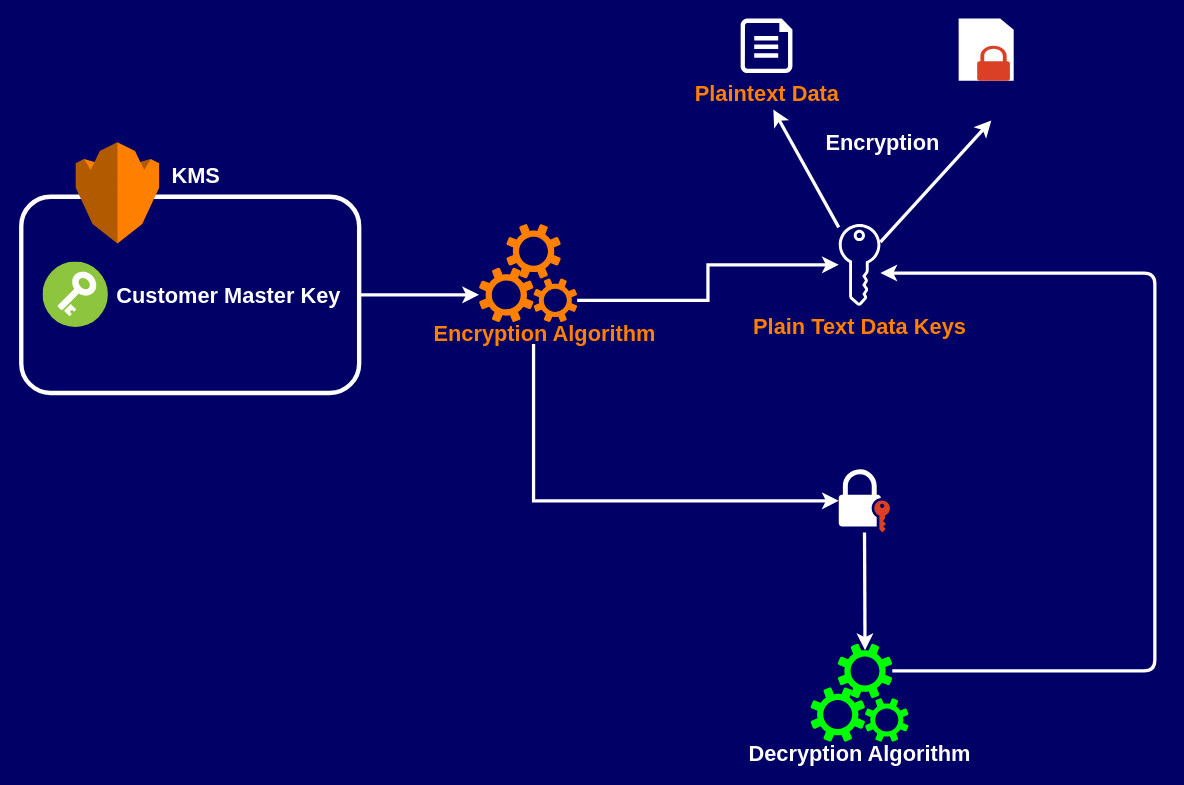
This 1184x785 diagram has some shape labels left out. The centre of each missing label's shape, as x and y in pixels:
Cipher text: the point at 993,62
Encrypted Data Keys: the point at 863,500
